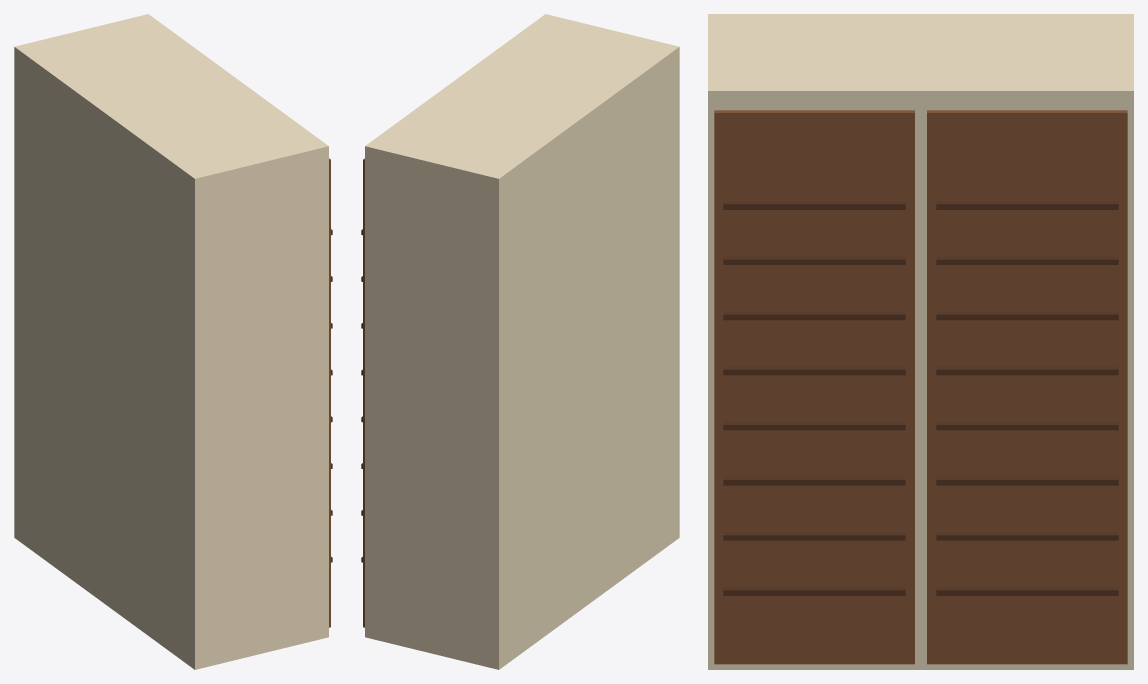
File: closet.glb
The picture shows the model from 3 angles, left to right: view 1: azimuth 30°, elevation 25°; view 2: azimuth 150°, elevation 25°; view 3: azimuth 270°, elevation 25°; orthographic projection. The views are drawn at different scales.
Visible parts, largest first — view 1: Box1, Box2; view 2: Box1, Box11; view 3: Box2, Box11, Box1, Box6, Box7, Box8, Box15, Box16, Box17, Box3, Box4, Box5 (+7 smaller).
Part boxes in pixels (<box>): Box1: <box>14,14,328,669</box>; Box2: <box>329,158,330,627</box>; Box1: <box>365,14,679,669</box>; Box11: <box>363,158,364,627</box>; Box2: <box>714,110,914,664</box>; Box11: <box>927,110,1127,664</box>; Box1: <box>708,14,1133,669</box>; Box6: <box>723,421,905,430</box>; Box7: <box>723,366,905,375</box>; Box8: <box>723,311,905,320</box>; Box15: <box>936,421,1118,430</box>; Box16: <box>936,366,1118,375</box>; Box17: <box>936,311,1118,320</box>; Box3: <box>723,587,905,595</box>; Box4: <box>723,532,905,540</box>; Box5: <box>723,477,905,485</box>.
Size of the model in its own units: 0.645 by 2.1 by 1.4.
